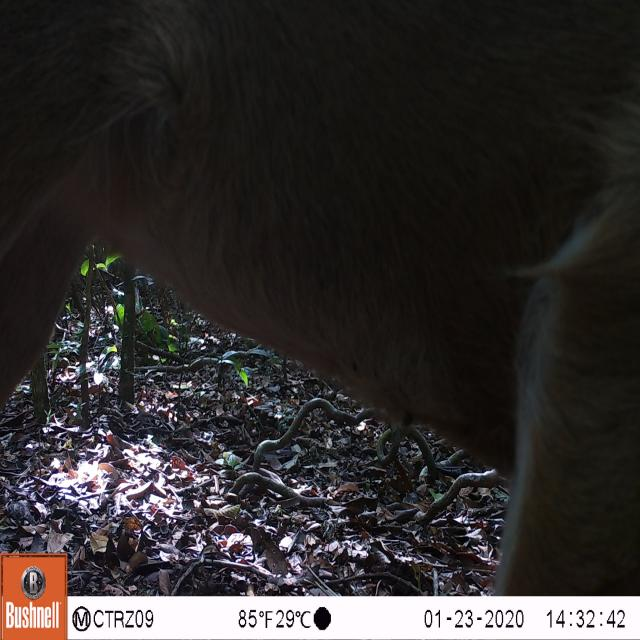White-tailed Deer: (3, 3, 640, 553)
